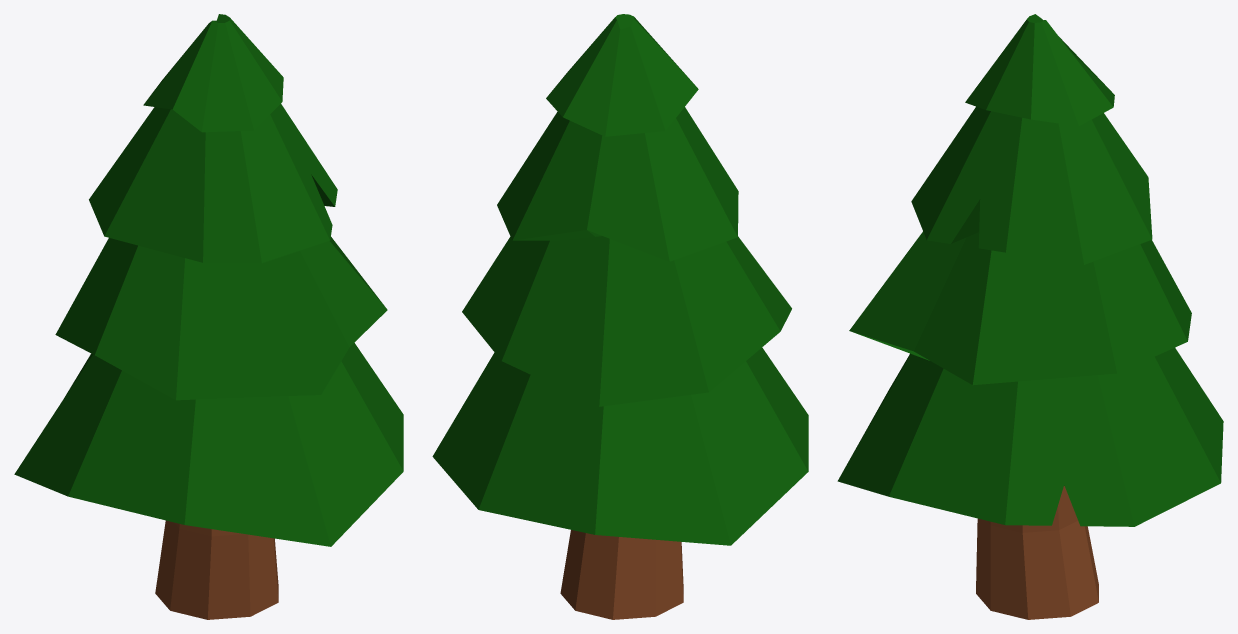
Rendered from Tree.fbx.
3 views of the same model, side by side, from view 1: azimuth 30°, elevation 25°; view 2: azimuth 150°, elevation 25°; view 3: azimuth 270°, elevation 25° (orthographic).
Visible parts, largest first — view 1: Cylinder.001; view 2: Cylinder.001; view 3: Cylinder.001.
Part boxes in pixels (box(x1,y1,x2,y2)): Cylinder.001: box(14, 14, 403, 619); Cylinder.001: box(432, 14, 808, 619); Cylinder.001: box(837, 14, 1223, 619).
Bounding box in the file's own units: 5.33 × 8.75 × 5.32.
